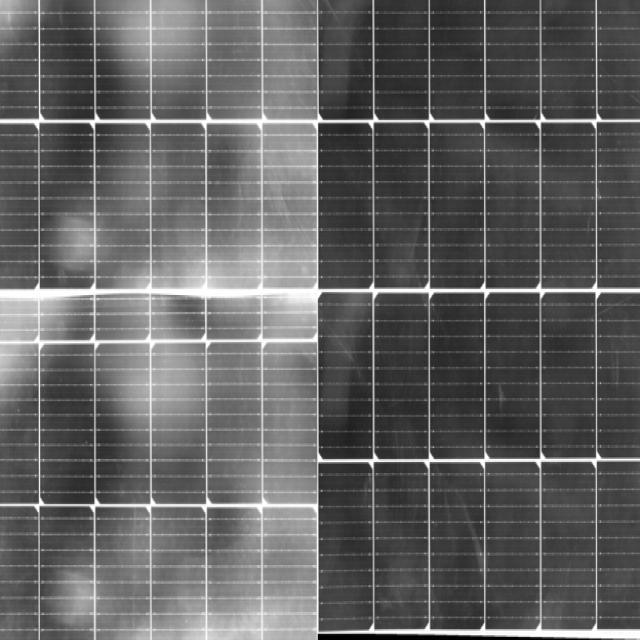MISALIGNMENT: (27, 274, 361, 372)
